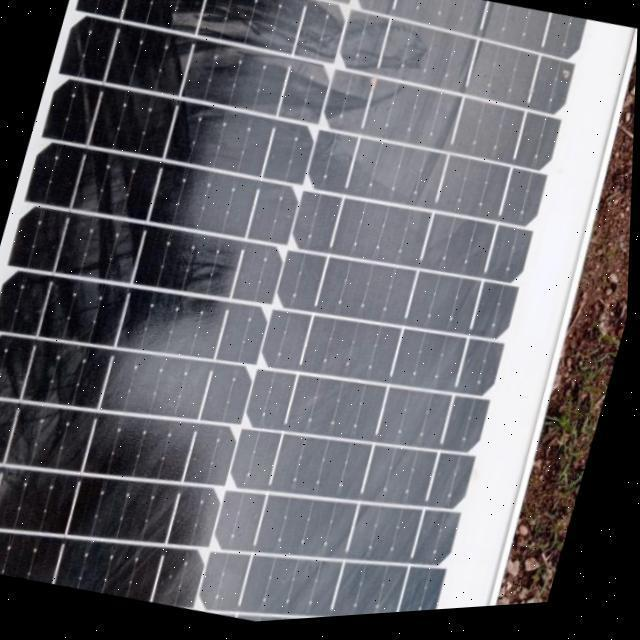Anomaly Solar Panel: (14, 0, 618, 638)
Surface Contaminant: (25, 0, 616, 625)
